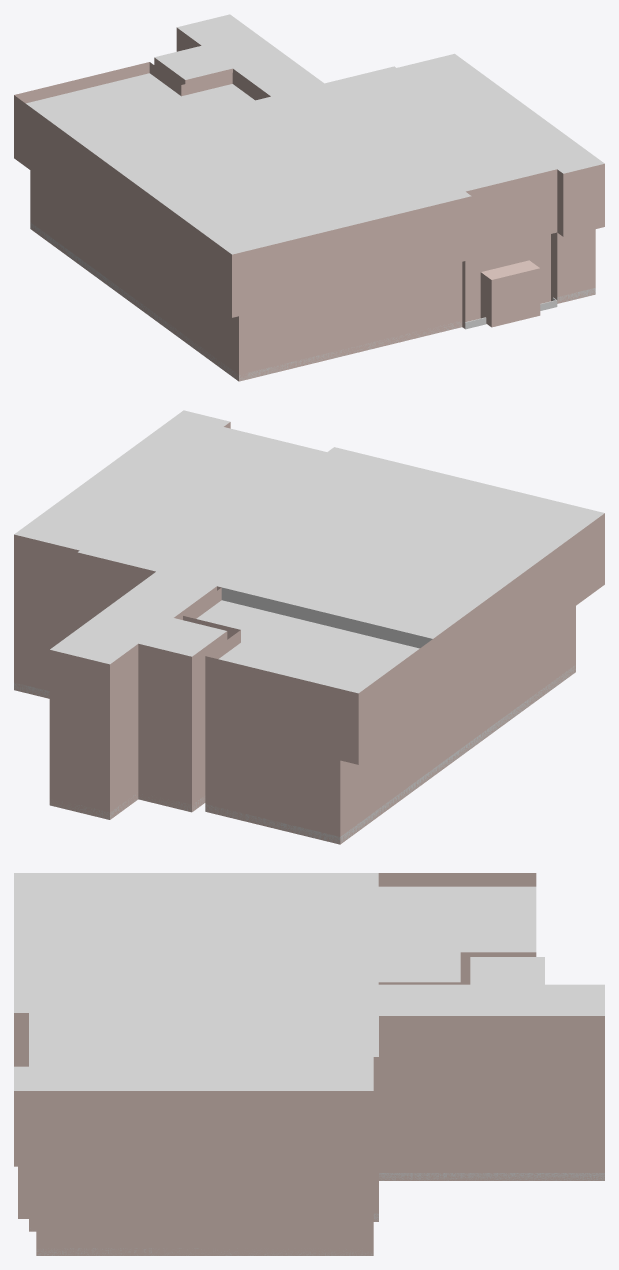
Rendered from testRoom.fbx.
3 views of the same model, one above another, from view 1: azimuth 30°, elevation 25°; view 2: azimuth 150°, elevation 25°; view 3: azimuth 270°, elevation 25° (orthographic). The views are drawn at different scales.
Visible parts, largest first — view 1: Room, Ceiling, Baseboard; view 2: Room, Ceiling, Baseboard; view 3: Ceiling, Room, Baseboard.
Part boxes in pixels (left/top/right/bottom): Room: left=14, top=27, right=604, bottom=381; Ceiling: left=26, top=14, right=604, bottom=254; Baseboard: left=30, top=222, right=595, bottom=381; Room: left=14, top=422, right=604, bottom=844; Ceiling: left=14, top=410, right=604, bottom=693; Baseboard: left=14, top=666, right=575, bottom=843; Ceiling: left=14, top=873, right=604, bottom=1090; Room: left=14, top=873, right=604, bottom=1255; Baseboard: left=30, top=1173, right=604, bottom=1255.
Bounding box in the file's own units: 691 × 244 × 792.
